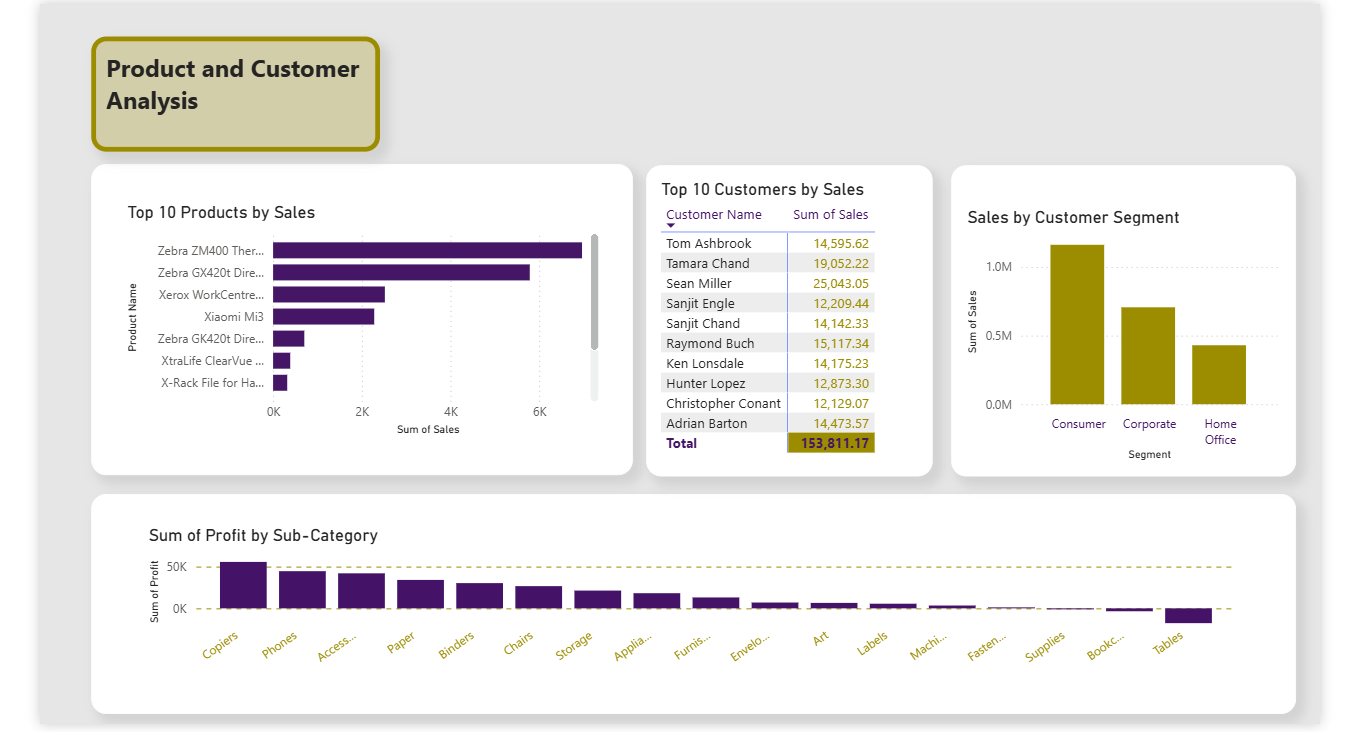

What the dashboard file says about the page in this screenshot:
{"tool":"powerbi","page":{"name":"Page 2","canvas":[1280,720],"ordinal":1},"visuals":[{"type":"shape","box":[51.2,160,541.2,311.2],"z":0},{"type":"shape","box":[51.2,490,1205,220],"z":500},{"type":"shape","box":[606.2,161.2,286.2,311.2],"z":750},{"type":"barChart","title":"Top 10 Products by Sales ","fields":{"Category":["Sample - Superstore.Product Name"],"Y":["Sum(Sample - Superstore.Sales)"]},"box":[82.5,197.5,481.2,238.8],"z":1000},{"type":"pivotTable","title":"Top 10 Customers by Sales","fields":{"Rows":["Sample - Superstore.Customer Name"],"Values":["Sum(Sample - Superstore.Sales)"]},"box":[616.2,175,267.5,286.2],"z":2000},{"type":"shape","box":[911.2,161.2,345,311.2],"z":2500},{"type":"textbox","box":[51.2,32.5,288.8,115],"z":3000},{"type":"clusteredColumnChart","fields":{"Category":["Sample - Superstore.Sub-Category"],"Y":["Sum(Sample - Superstore.Profit)"]},"box":[103.8,521.2,1097.5,150],"z":4000},{"type":"clusteredColumnChart","title":" Sales by Customer  Segment","fields":{"Category":["Sample - Superstore.Segment"],"Y":["Sum(Sample - Superstore.Sales)"]},"box":[922.5,202.5,320,258.8],"z":5000}]}

Visuals, with their boxes on the page's 1280x720 design canvas (x1, y1, x2, y2). These are canvas units, not pixel positions in the 1361x732 screenshot, which may show the page scaled, cropped or inside an application window:
shape: (left=51, top=160, right=592, bottom=471)
shape: (left=51, top=490, right=1256, bottom=710)
shape: (left=606, top=161, right=892, bottom=472)
"Top 10 Products by Sales " barChart: (left=82, top=198, right=564, bottom=436)
"Top 10 Customers by Sales" pivotTable: (left=616, top=175, right=884, bottom=461)
shape: (left=911, top=161, right=1256, bottom=472)
textbox: (left=51, top=32, right=340, bottom=148)
clusteredColumnChart - Sample - Superstore.Sub-Category x Sum(Sample - Superstore.Profit): (left=104, top=521, right=1201, bottom=671)
" Sales by Customer  Segment" clusteredColumnChart: (left=922, top=202, right=1242, bottom=461)
